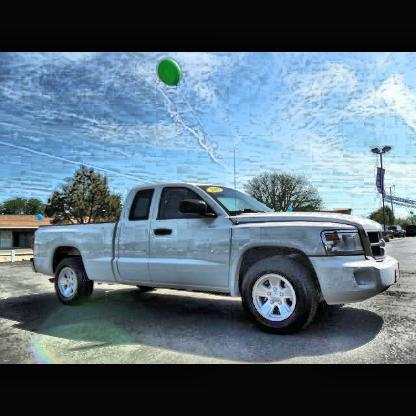Dodge Dakota Club Cab 2007: (30, 183, 400, 334)
